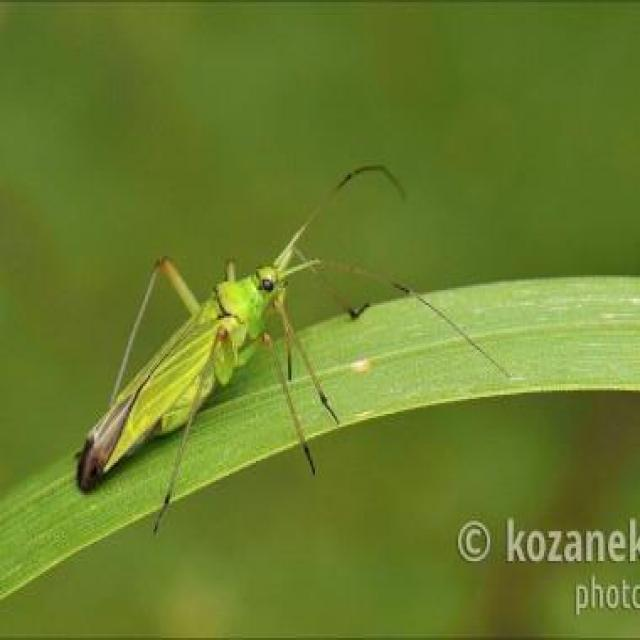Miridae-Adult-: (66, 147, 452, 540)
